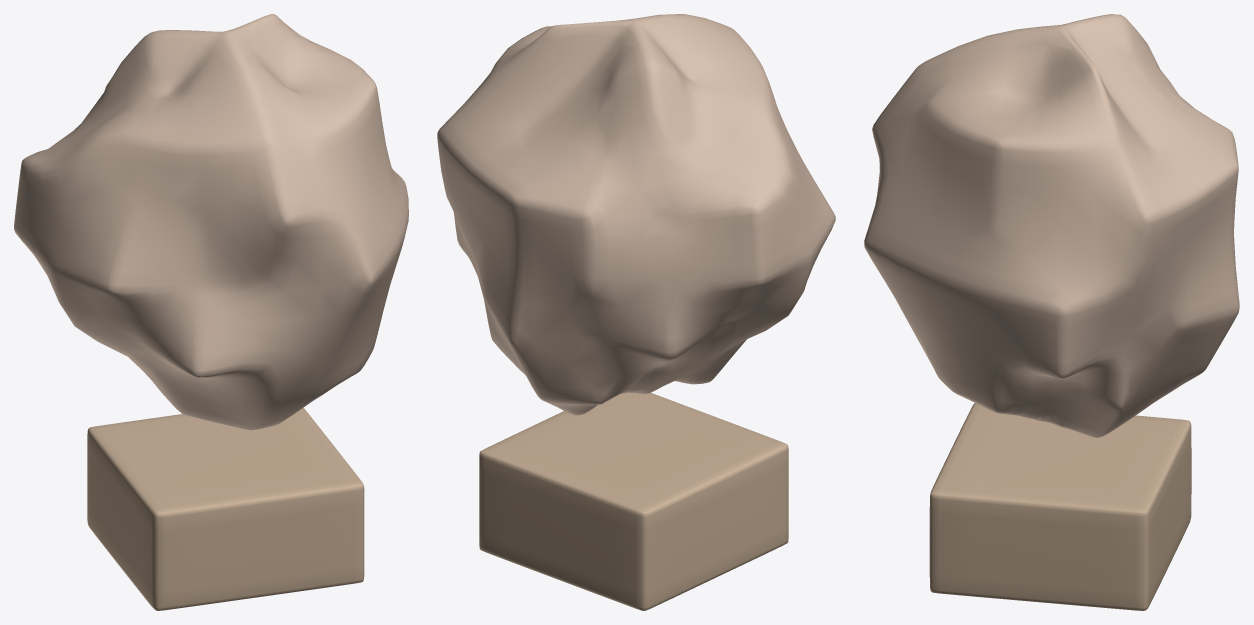
Rendered from PROP_Acorn_v0.glb.
The picture shows the model from 3 angles, left to right: view 1: azimuth 30°, elevation 25°; view 2: azimuth 150°, elevation 25°; view 3: azimuth 270°, elevation 25°; orthographic projection.
Visible parts, largest first — view 1: PROP_Acorn_v0; view 2: PROP_Acorn_v0; view 3: PROP_Acorn_v0.
Part boxes in pixels (x1,y1,x2,y2): PROP_Acorn_v0: (14, 14, 408, 610); PROP_Acorn_v0: (437, 14, 835, 610); PROP_Acorn_v0: (864, 14, 1239, 610).
Bounding box in the file's own units: 0.385 × 0.5427 × 0.348.
